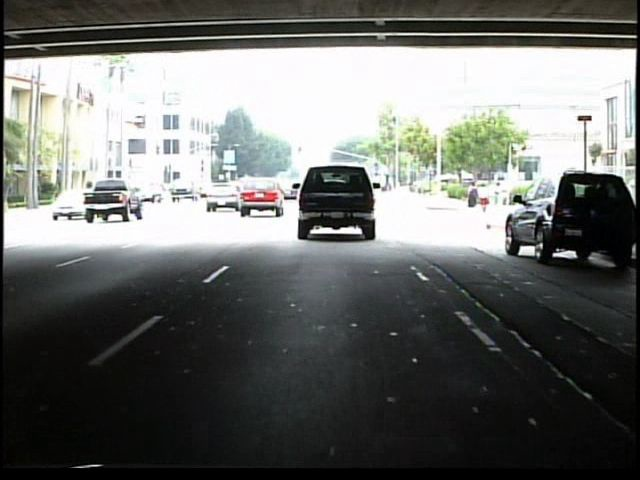person: (492, 178, 507, 212), (466, 180, 480, 216), (480, 183, 491, 212)
